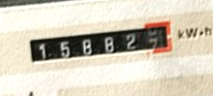1: (37, 41, 49, 60)
2: (125, 32, 137, 50)
5: (58, 40, 72, 58)
7: (147, 36, 159, 50)
8: (81, 37, 93, 55), (104, 35, 115, 52)
screen: (22, 18, 180, 67)
